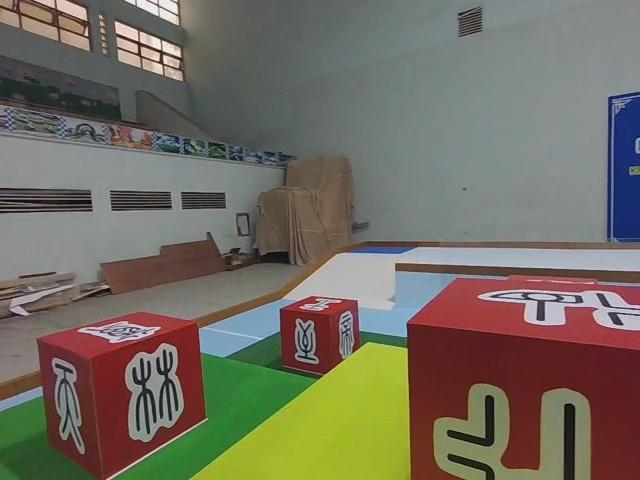R2 Fake: (36, 312, 208, 480), (279, 294, 359, 375)
R2 Real: (406, 279, 640, 480)
